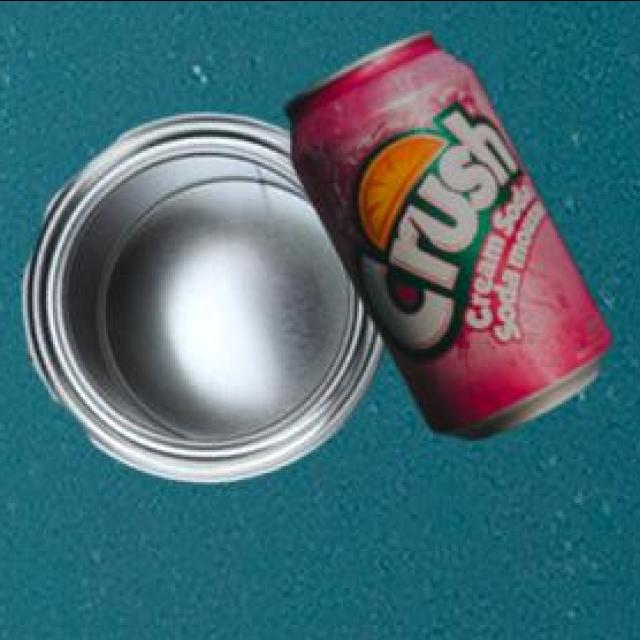logam: (280, 33, 609, 443), (20, 119, 381, 485)
